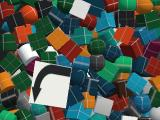Left: (29, 60, 72, 109)
